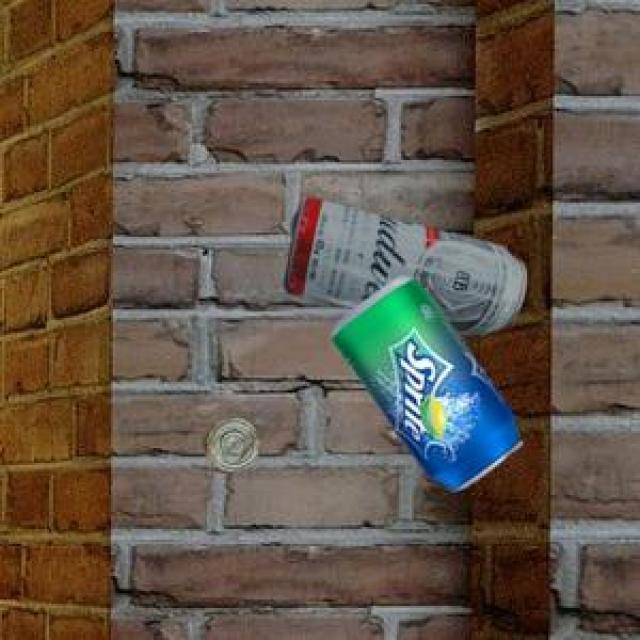Can: (330, 272, 517, 487), (283, 195, 522, 332), (202, 415, 257, 470)
